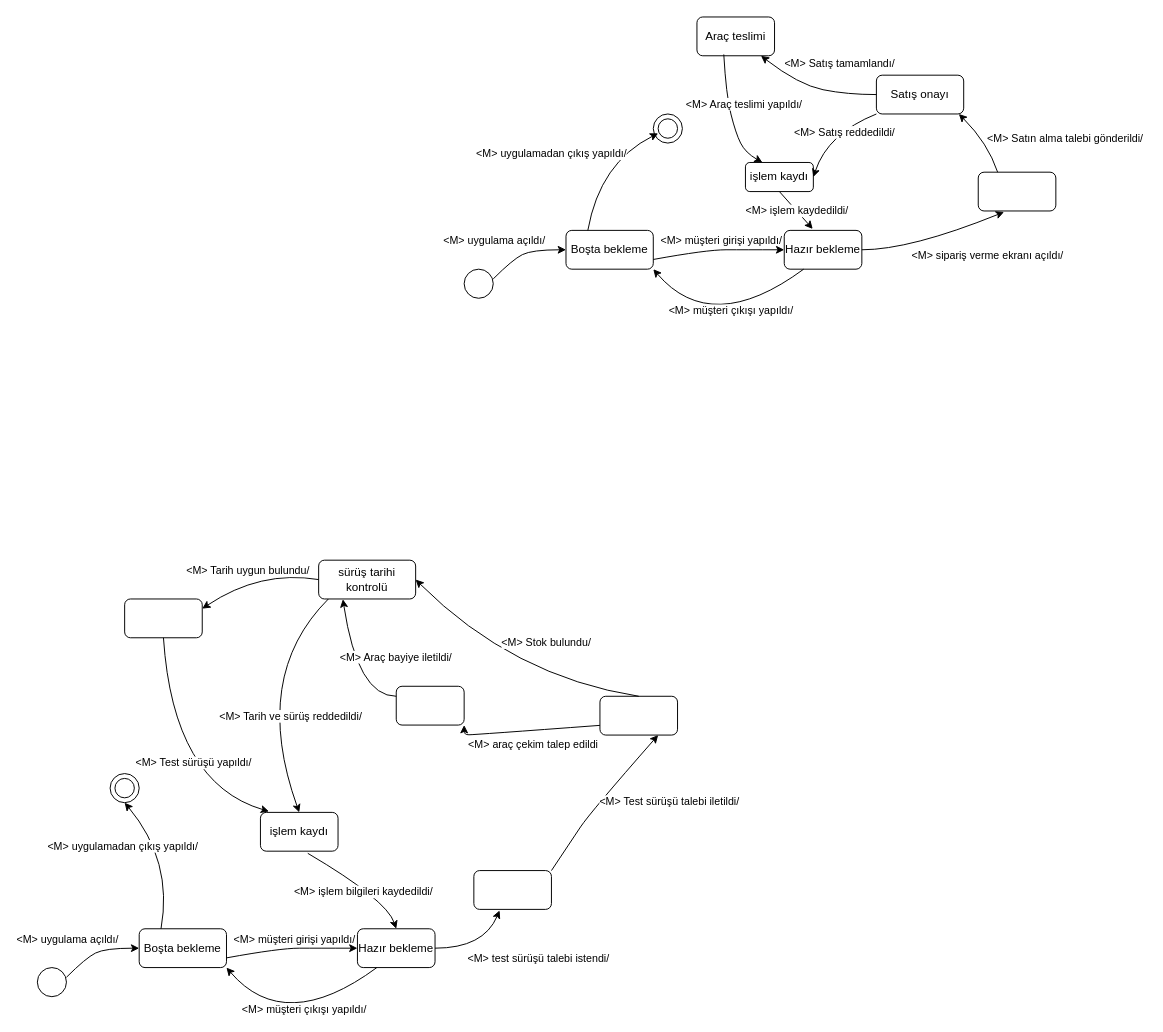
This 1163x1032 diagram has some shape labels left out. Each missing label, with the box of its shape:
Araç seçimi: (977, 171, 1056, 211)
Araç çekimi: (395, 685, 464, 725)
Stok kontrolu: (599, 695, 678, 735)
Talep oluştuma: (473, 870, 551, 909)
Test sürüşü: (124, 598, 202, 638)
